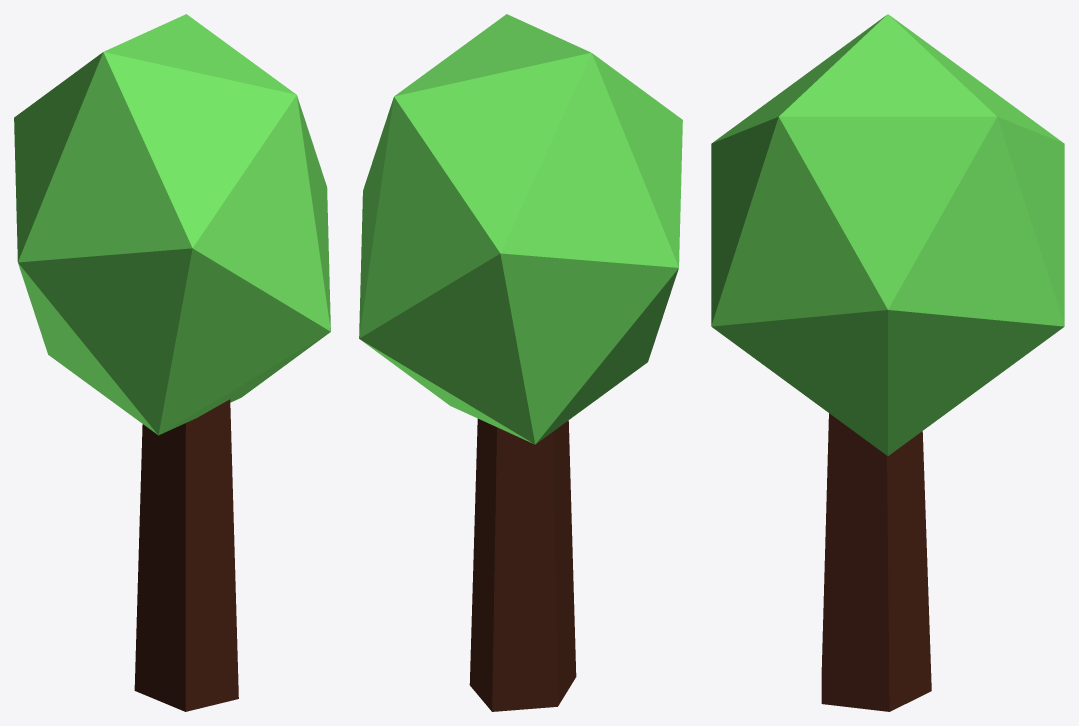
The model's file is LP_Tree.dae.
The picture shows the model from 3 angles, left to right: view 1: azimuth 30°, elevation 25°; view 2: azimuth 150°, elevation 25°; view 3: azimuth 270°, elevation 25°; orthographic projection. The views are drawn at different scales.
Parts seen in each view (by area): view 1: Icosphere; view 2: Icosphere; view 3: Icosphere.
Boxes of the visible parts, x1,y1,x2,y2 form: Icosphere: (14, 14, 330, 711); Icosphere: (359, 14, 682, 711); Icosphere: (711, 14, 1064, 711).
Size of the model in its own units: 1 by 1 by 2.
